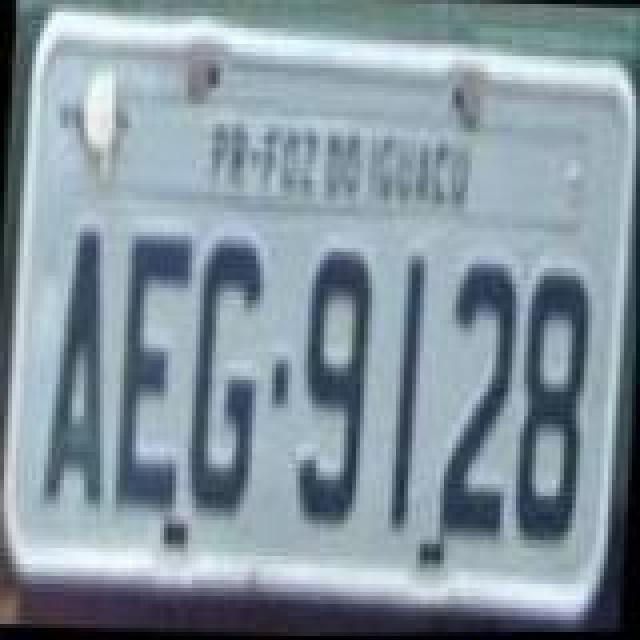1: (386, 250, 426, 542)
2: (436, 258, 520, 546)
8: (510, 268, 590, 552)
9: (294, 246, 374, 530)
A: (40, 224, 116, 512)
E: (114, 226, 194, 514)
G: (188, 234, 264, 514)
